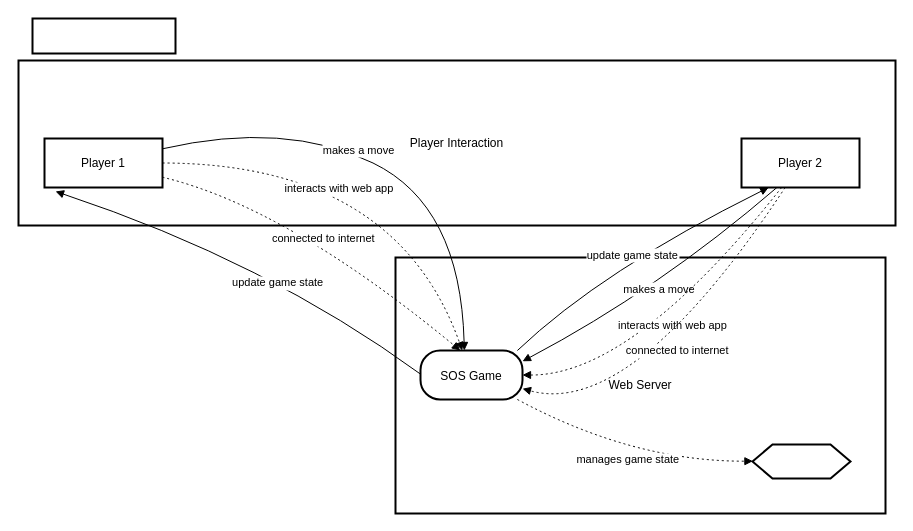
Image size: 913x531. Some labels were removed from this diagram. Each missing label, with the centre of its shape:
"Database" goes at (x=801, y=461).
"Global Network" goes at (x=103, y=35).
